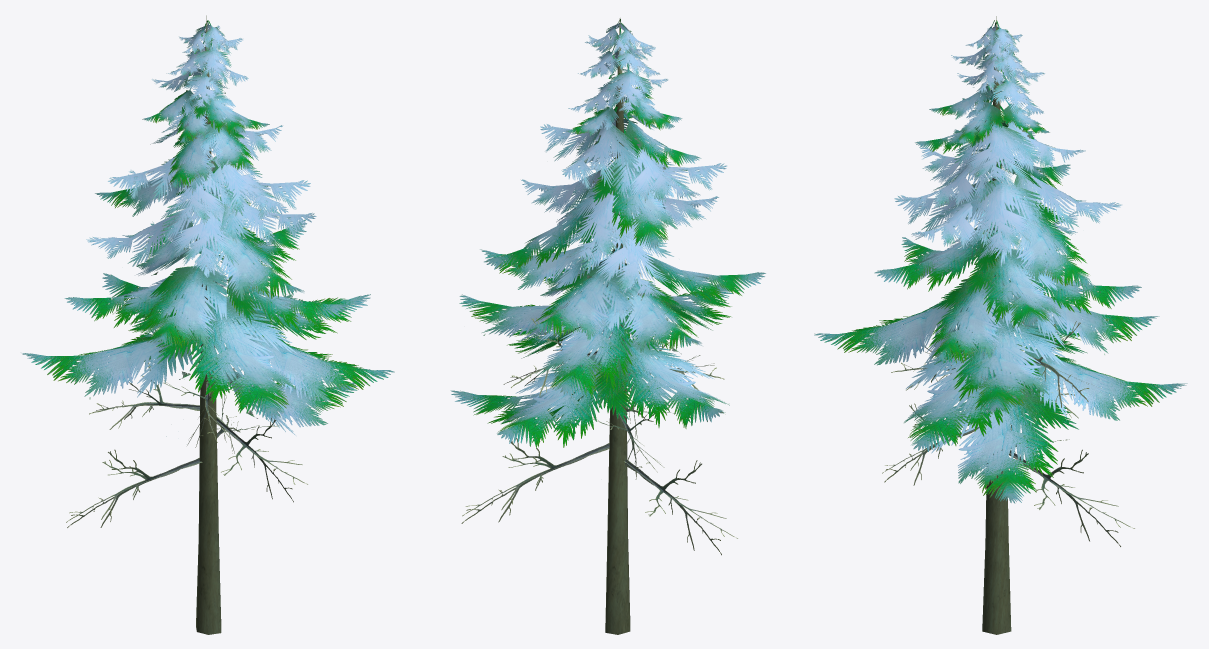
File: songshu_xue3.FBX
3 views of the same model, side by side, from view 1: azimuth 30°, elevation 25°; view 2: azimuth 150°, elevation 25°; view 3: azimuth 270°, elevation 25° (orthographic).
Parts seen in each view (by area): view 1: Group34294; view 2: Group34294; view 3: Group34294.
Part boxes in pixels (bbox=[...]): Group34294: bbox=[22, 15, 394, 634]; Group34294: bbox=[450, 18, 765, 634]; Group34294: bbox=[814, 16, 1187, 634].
Bounding box in the file's own units: 61.89 × 113 × 66.02.
